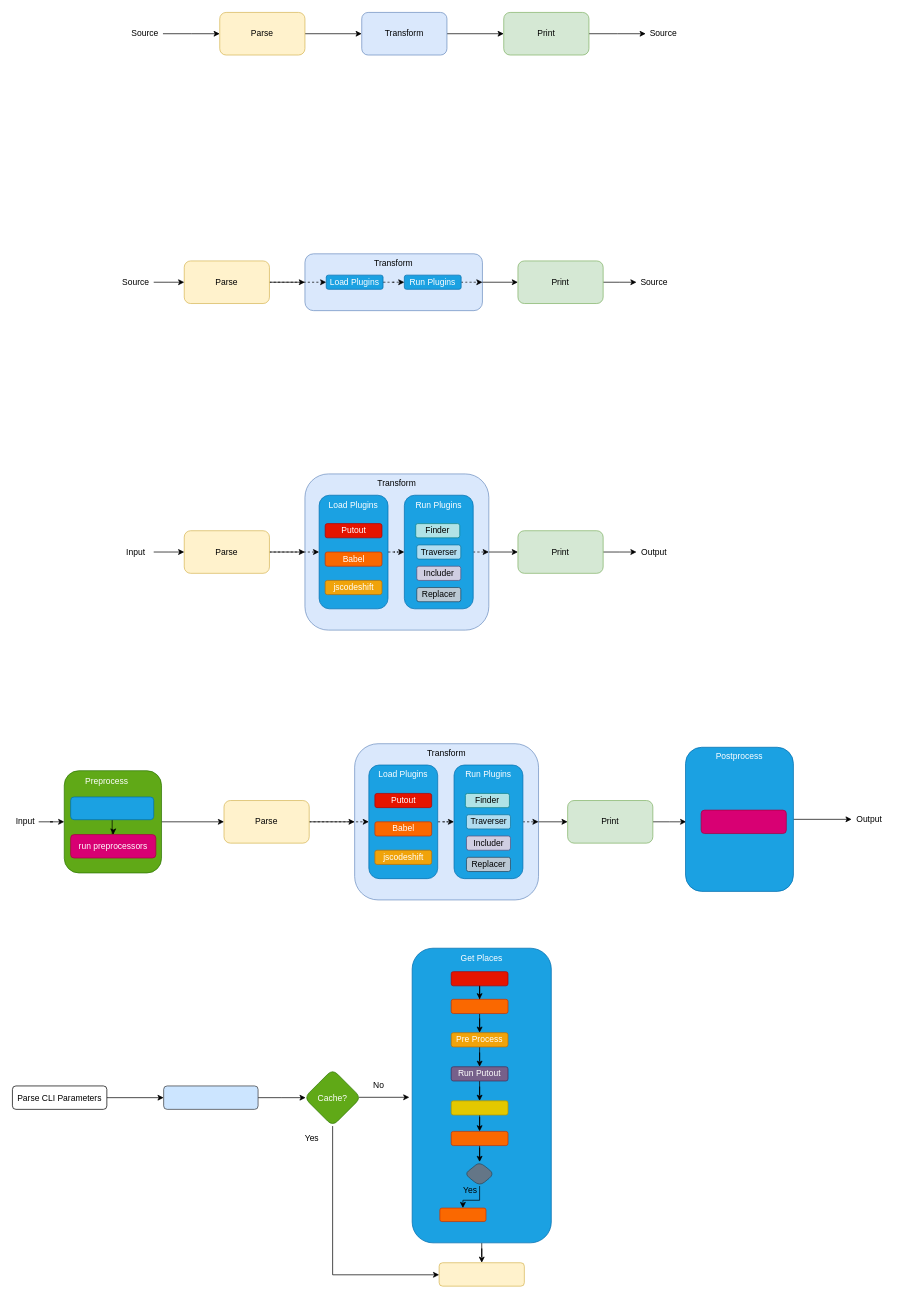
The diagram is 900 pixels wide and 1299 high, and some of its shapes have lost their labels. Each missing label, with the box of its shape:
Find Files: (163, 1085, 258, 1109)
Fix?: (464, 1161, 495, 1186)
Format Places: (438, 1262, 524, 1286)
load preprocessors: (70, 796, 154, 820)
Post Process: (450, 1131, 508, 1146)
Read File: (450, 971, 508, 986)
Read Options: (450, 999, 508, 1014)
Run ESLint: (450, 1100, 508, 1115)
run postprocessors: (700, 809, 786, 834)
Write File: (439, 1207, 486, 1222)
